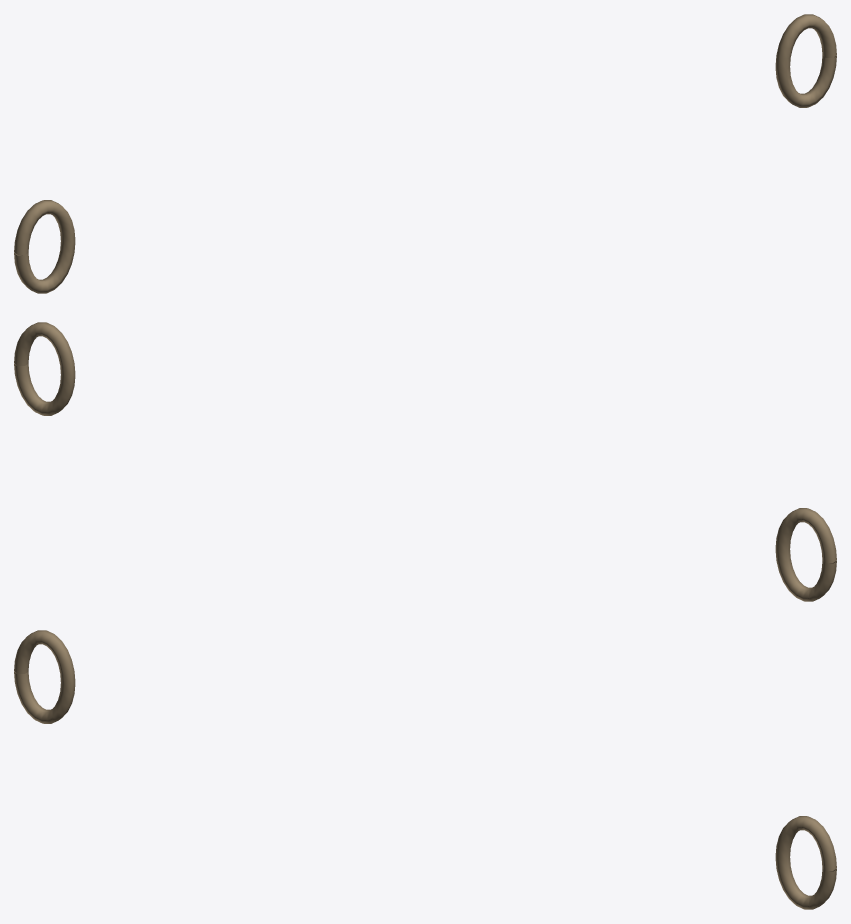
The model's file is AdaAccessory.glb.
3 renders of one model, top to bottom at view 1: azimuth 30°, elevation 25°; view 2: azimuth 150°, elevation 25°; view 3: azimuth 330°, elevation 25°, orthographic.
Parts seen in each view (by area): view 1: AdaAccessory; view 2: AdaAccessory; view 3: AdaAccessory.
Part boxes in pixels (x1=…): AdaAccessory: x1=14, y1=14, x2=836, y2=293; AdaAccessory: x1=14, y1=322, x2=836, y2=601; AdaAccessory: x1=14, y1=630, x2=836, y2=909.
Bounding box in the file's own units: 0.454 × 0.0481 × 0.007.
